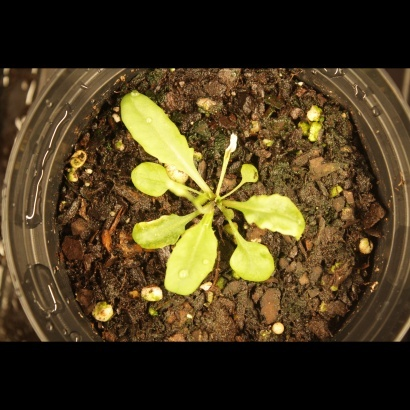leaf: (113, 80, 202, 176), (162, 220, 225, 298), (239, 190, 317, 242), (229, 233, 280, 288), (127, 212, 194, 252), (127, 159, 173, 199), (236, 161, 264, 189)
